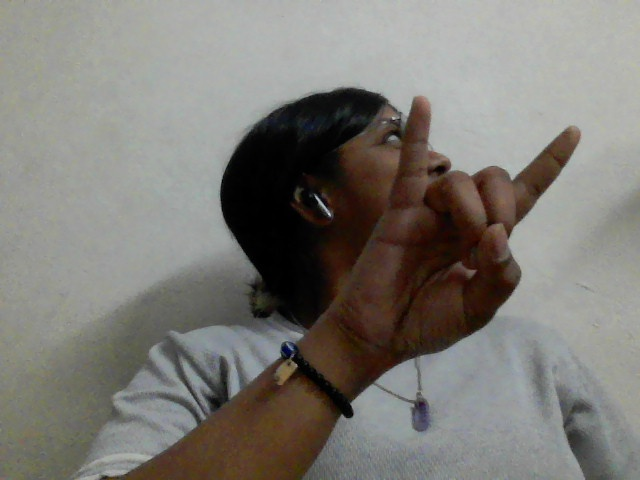I love you: (316, 89, 587, 381)
